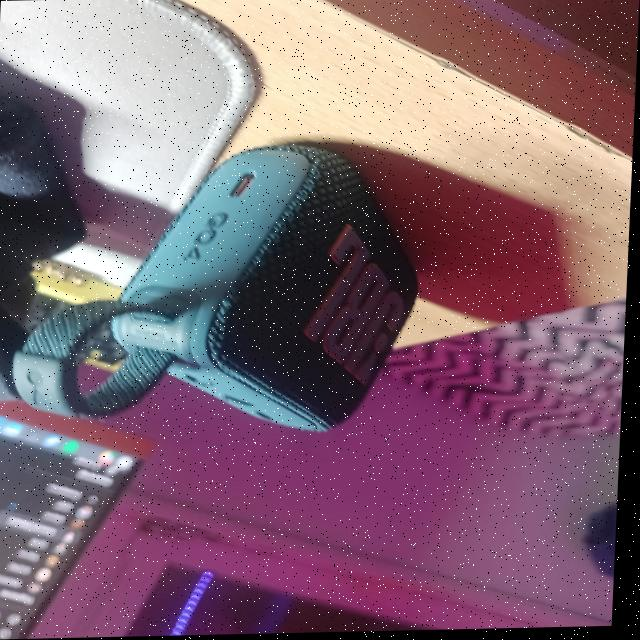column JBL: (0, 134, 425, 466)
